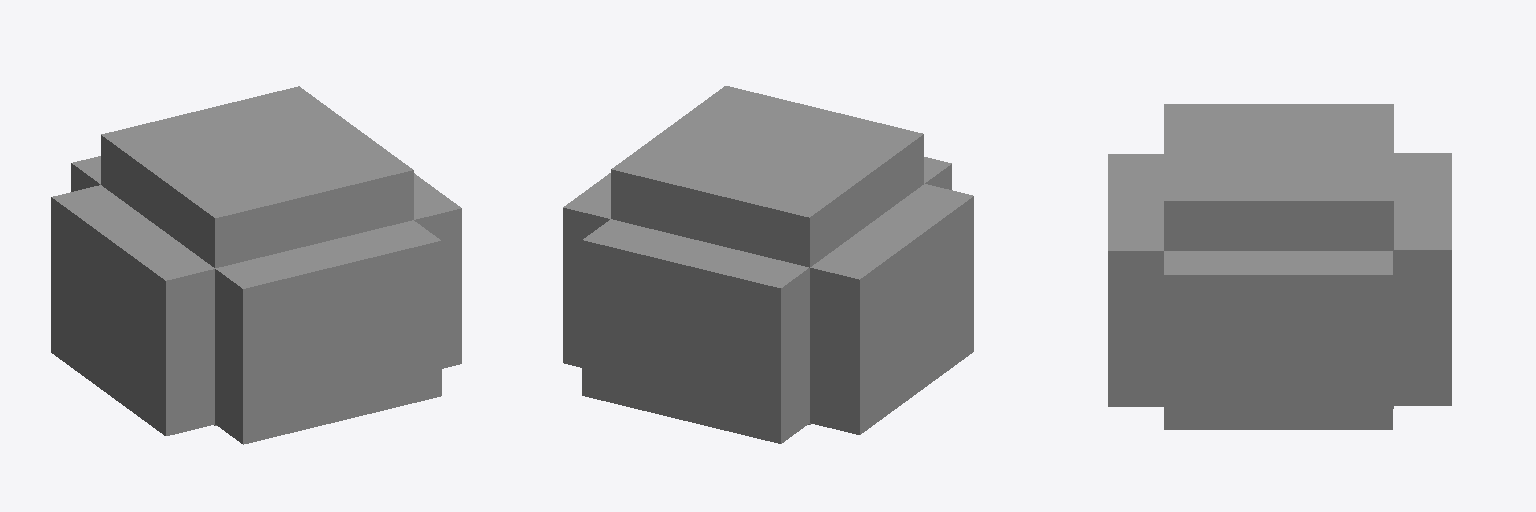
Rendered from cube_world_dark.obj.
The picture shows the model from 3 angles: view 1: azimuth 30°, elevation 25°; view 2: azimuth 150°, elevation 25°; view 3: azimuth 270°, elevation 25°; orthographic projection.
Parts seen in each view (by area): view 1: Cube.001_Cube.002; view 2: Cube.001_Cube.002; view 3: Cube.001_Cube.002.
Part boxes in pixels (x1,y1,x2,y2): Cube.001_Cube.002: (51, 86, 461, 444); Cube.001_Cube.002: (563, 86, 973, 443); Cube.001_Cube.002: (1108, 104, 1451, 429).
Size of the model in its own units: 11.96 by 8 by 11.98.